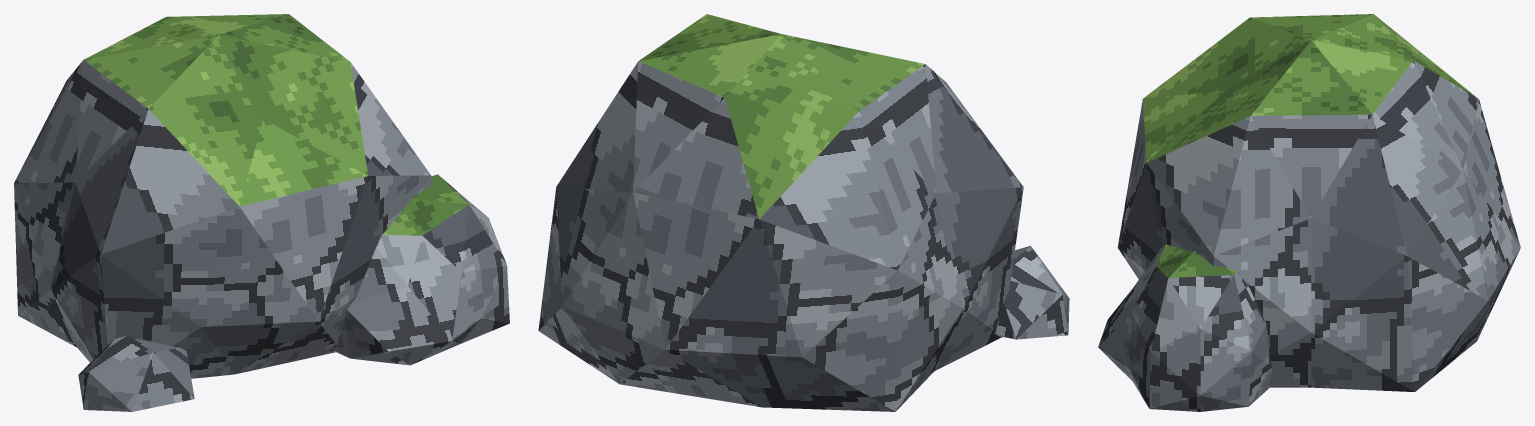
Rendered from rock_large.glb.
The picture shows the model from 3 angles, left to right: view 1: azimuth 30°, elevation 25°; view 2: azimuth 150°, elevation 25°; view 3: azimuth 270°, elevation 25°; orthographic projection. The views are drawn at different scales.
Visible parts, largest first — view 1: rock_large; view 2: rock_large; view 3: rock_large.
Part boxes in pixels (<box>): rock_large: <box>14,14,509,411</box>; rock_large: <box>538,14,1069,411</box>; rock_large: <box>1098,14,1520,411</box>.
Size of the model in its own units: 2.56 by 1.6 by 2.27.
1 material, 1 textured.
